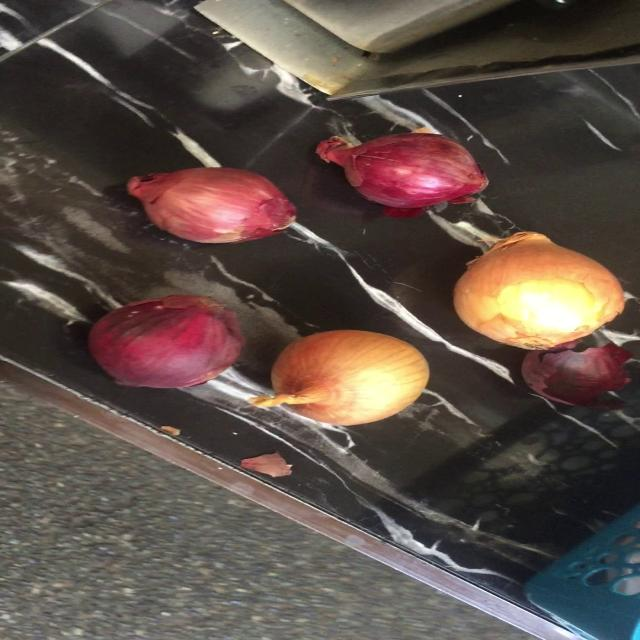Onion: (454, 232, 626, 350), (252, 330, 429, 426), (315, 129, 488, 218), (87, 295, 243, 388), (126, 167, 295, 243)
